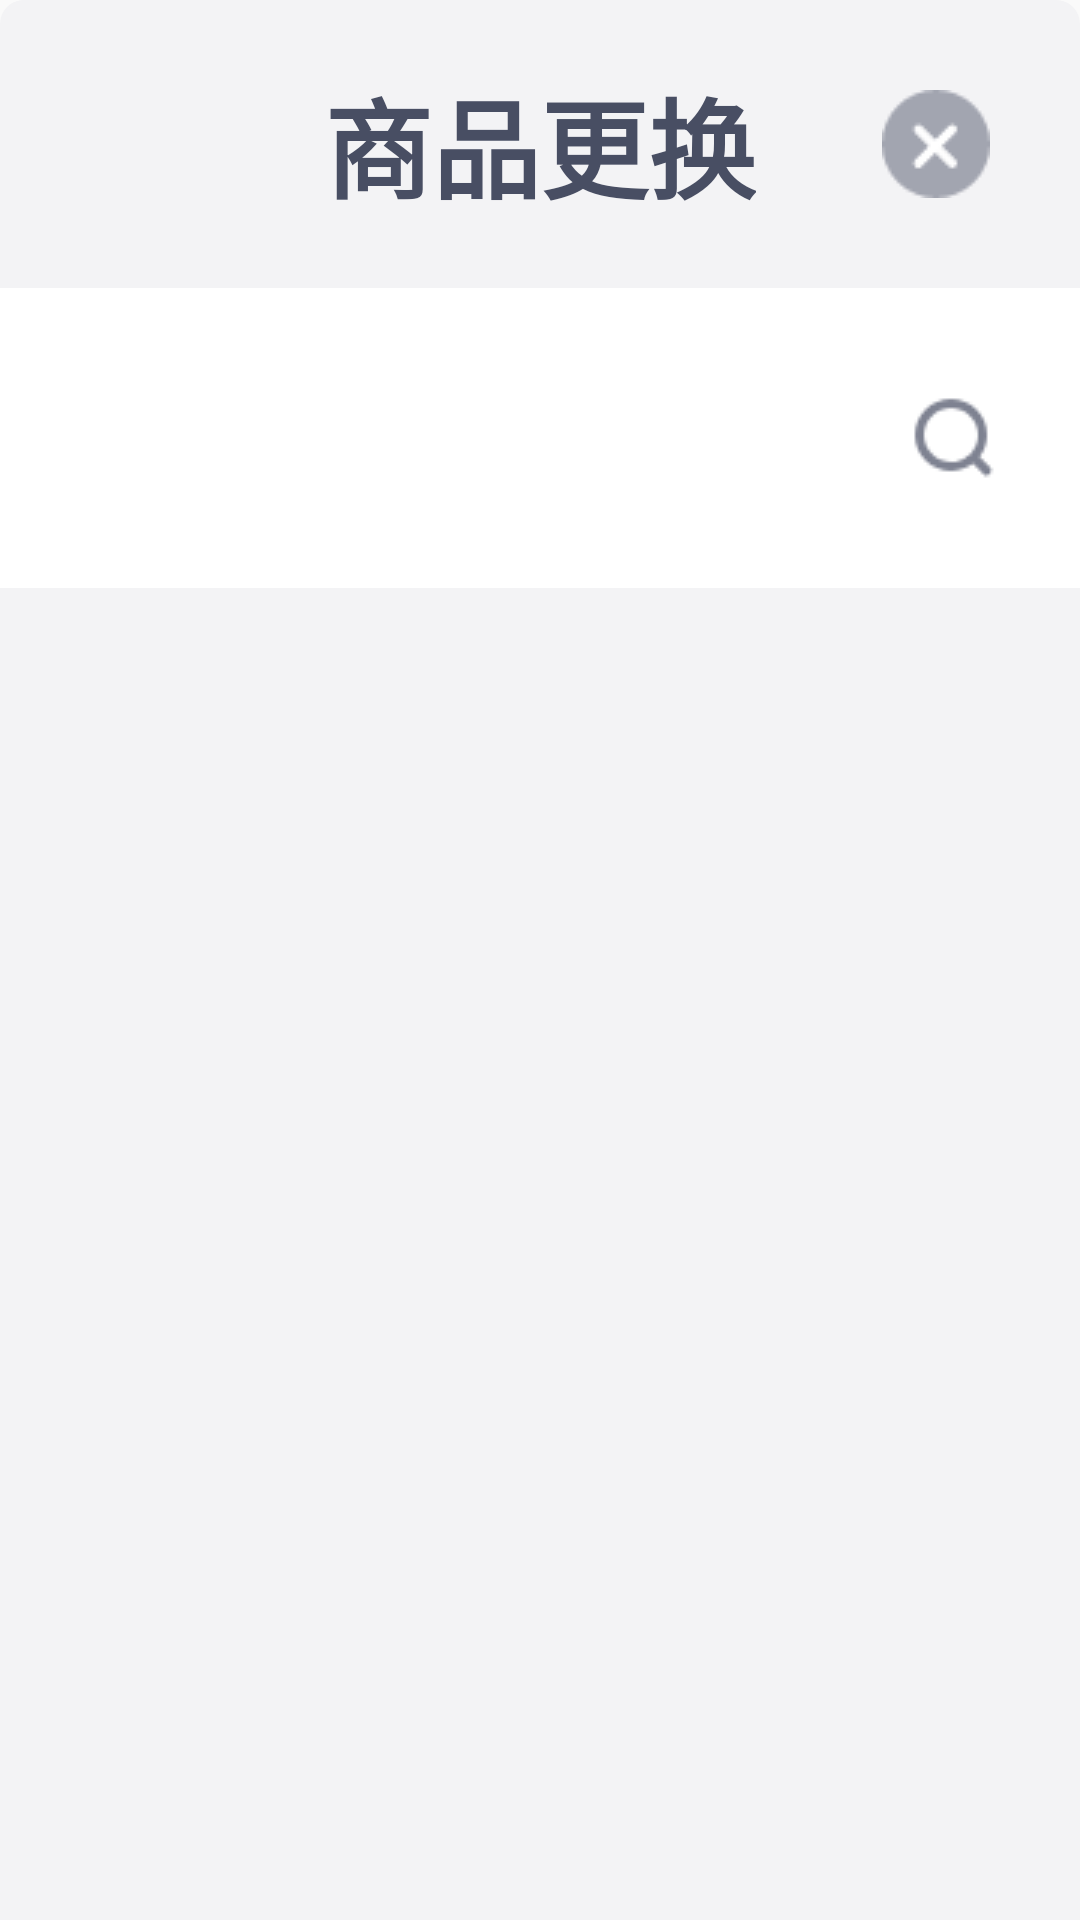

Locate icon controls on the screen. Image size 1080w x 1920h, boxes as (x1=x1, y1=y1, x2=x2, y2=y2).
close: (x1=882, y1=90, x2=990, y2=198)
search: (x1=914, y1=398, x2=993, y2=477)
